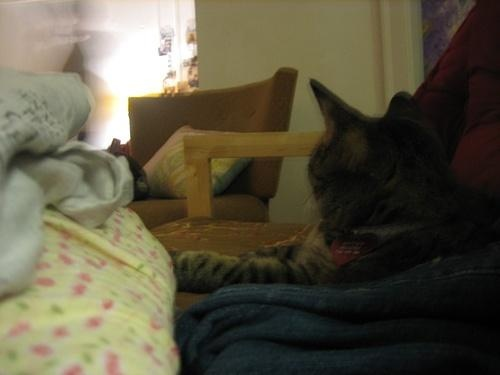cat: (163, 77, 500, 291)
chair: (143, 4, 500, 375), (127, 66, 299, 223)
